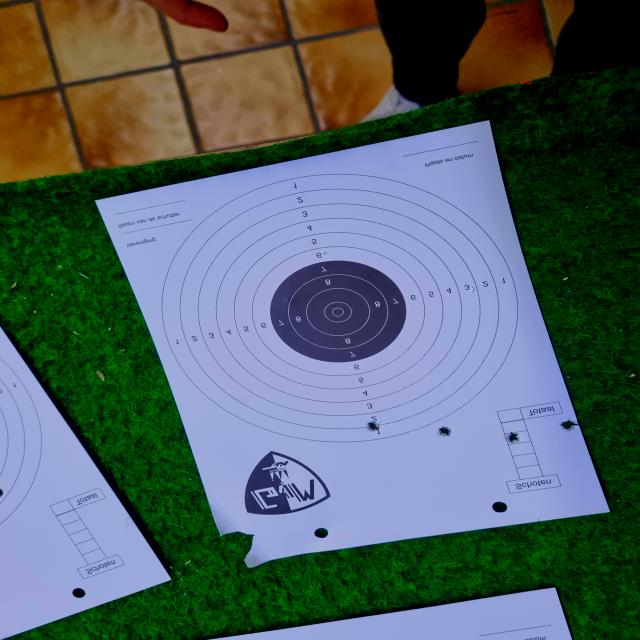0: (560, 418, 577, 432), (438, 426, 453, 438), (507, 432, 521, 443)
2: (366, 421, 380, 432)
Target: (161, 174, 517, 442)
black_contour: (269, 260, 406, 363)
